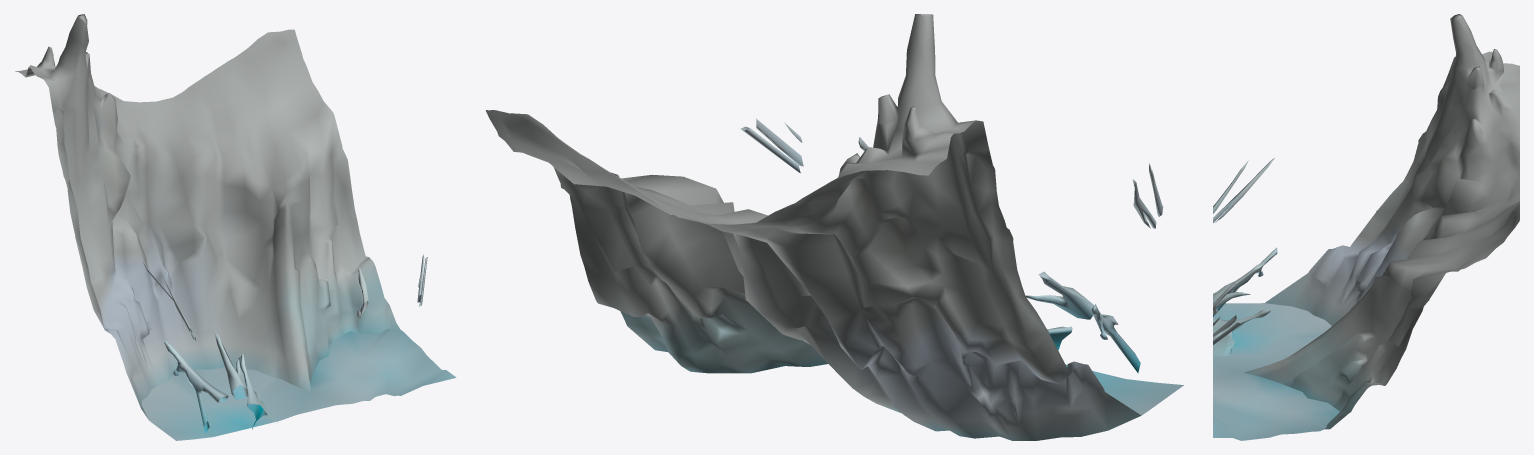
The picture shows the model from 3 angles, left to right: view 1: azimuth 30°, elevation 25°; view 2: azimuth 150°, elevation 25°; view 3: azimuth 270°, elevation 25°; orthographic projection. The views are drawn at different scales.
Visible parts, largest first — view 1: G:\FFXIV-MapTools\exports\s1f2\bg\ffxiv\sea_s1\fld\s1f2\bgpl (×12); view 2: G:\FFXIV-MapTools\exports\s1f2\bg\ffxiv\sea_s1\fld\s1f2\bgpl (×12); view 3: G:\FFXIV-MapTools\exports\s1f2\bg\ffxiv\sea_s1\fld\s1f2\bgpl (×13).
Part boxes in pixels (x1,y1,x2,y2): G:\FFXIV-MapTools\exports\s1f2\bg\ffxiv\sea_s1\fld\s1f2\bgpl (×12): (15, 14, 456, 440); G:\FFXIV-MapTools\exports\s1f2\bg\ffxiv\sea_s1\fld\s1f2\bgpl (×12): (485, 14, 1183, 440); G:\FFXIV-MapTools\exports\s1f2\bg\ffxiv\sea_s1\fld\s1f2\bgpl (×13): (1213, 14, 1519, 440).
Bounding box in the file's own units: 128 × 147 × 128.
